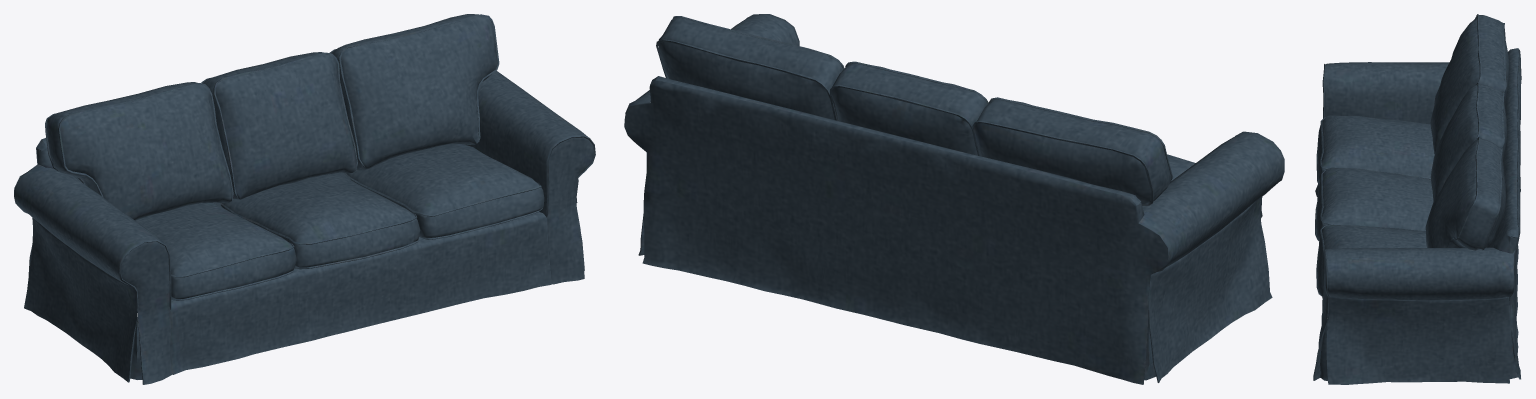
3 views of the same model, side by side, from view 1: azimuth 30°, elevation 25°; view 2: azimuth 150°, elevation 25°; view 3: azimuth 270°, elevation 25° (orthographic). The views are drawn at different scales.
Visible parts, largest first — view 1: Mesh_0; view 2: Mesh_0; view 3: Mesh_0.
Part boxes in pixels (x1,y1,x2,y2): Mesh_0: [14, 14, 595, 384]; Mesh_0: [624, 14, 1284, 384]; Mesh_0: [1313, 14, 1521, 384].
Bounding box in the file's own units: 2.19 × 0.8883 × 0.9169.
Materials: 1 (1 with a texture image).
